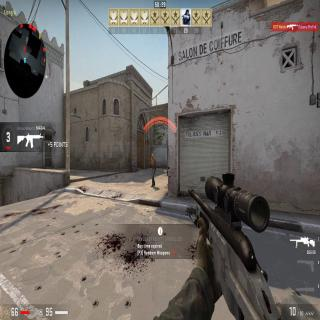T-Body: (150, 153, 157, 188)
T-Head: (151, 153, 154, 159)
